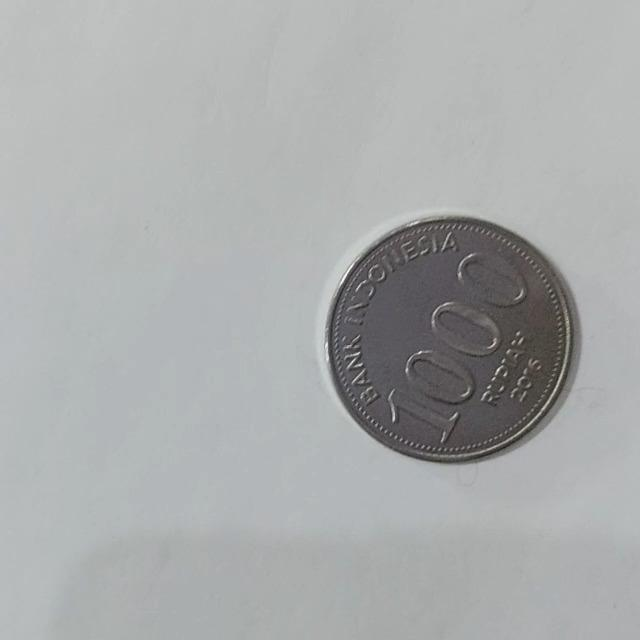Rp100: (323, 211, 578, 464)
